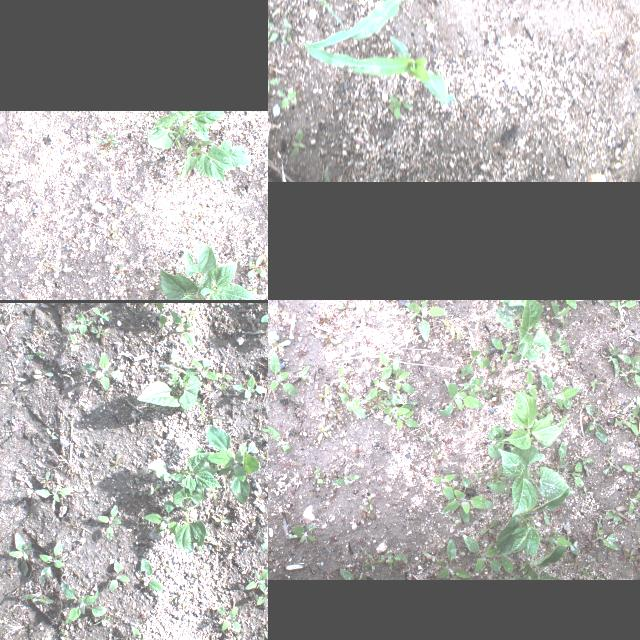crop: (306, 36, 456, 106), (144, 110, 253, 183), (486, 446, 576, 516), (158, 239, 261, 300), (303, 0, 437, 46), (488, 390, 570, 458), (496, 488, 568, 556), (137, 370, 225, 418), (148, 448, 222, 496), (497, 300, 552, 360), (172, 480, 206, 552), (520, 544, 566, 580)
weed: (204, 424, 260, 504), (441, 476, 494, 524), (605, 396, 640, 455), (60, 581, 108, 623), (436, 376, 484, 416), (81, 350, 122, 390), (407, 300, 447, 341), (383, 387, 422, 429), (536, 372, 580, 408), (435, 538, 471, 580), (380, 352, 416, 394), (463, 534, 502, 572), (142, 498, 178, 534), (268, 351, 297, 395), (38, 540, 68, 580), (460, 340, 492, 376), (364, 363, 394, 399), (8, 532, 32, 576), (612, 351, 640, 387), (583, 404, 609, 442), (136, 558, 162, 592), (489, 336, 523, 362), (97, 504, 121, 540), (170, 309, 193, 346), (268, 9, 292, 44), (544, 440, 570, 472), (593, 520, 619, 550), (499, 554, 528, 580), (160, 348, 188, 374), (338, 391, 366, 417), (438, 316, 462, 346), (600, 341, 620, 377), (186, 357, 218, 379), (286, 522, 318, 544), (233, 376, 267, 396), (65, 310, 93, 334), (245, 249, 268, 276), (245, 567, 268, 594), (108, 562, 130, 590), (434, 472, 456, 500), (35, 486, 73, 502), (550, 300, 570, 330), (268, 425, 291, 451), (218, 606, 240, 632), (574, 449, 594, 477), (389, 95, 411, 119), (550, 328, 572, 352), (565, 462, 585, 488), (563, 522, 579, 554), (372, 388, 394, 410), (619, 547, 640, 570), (323, 0, 343, 24), (546, 530, 572, 548), (331, 364, 349, 390), (150, 302, 167, 328), (604, 452, 622, 476), (598, 505, 622, 523), (331, 472, 361, 486), (524, 369, 538, 399), (24, 339, 46, 358), (422, 550, 448, 566), (268, 338, 291, 356), (622, 464, 640, 486), (290, 128, 304, 156), (610, 300, 636, 315), (95, 132, 119, 148), (22, 592, 54, 604), (362, 553, 386, 569), (489, 464, 508, 484), (278, 88, 296, 109), (627, 487, 640, 515), (92, 306, 112, 324), (386, 550, 410, 564), (339, 568, 366, 580), (479, 518, 497, 536), (258, 520, 268, 550), (255, 445, 268, 468), (619, 331, 640, 345), (256, 586, 268, 610), (294, 364, 312, 380), (320, 384, 332, 408), (317, 422, 333, 440), (328, 403, 344, 421), (337, 300, 356, 315), (555, 300, 590, 308), (583, 373, 603, 387), (268, 71, 281, 92), (108, 454, 124, 471), (359, 503, 376, 519), (15, 474, 33, 488), (215, 364, 233, 378), (362, 401, 380, 415), (320, 329, 338, 343), (558, 354, 574, 368), (92, 616, 114, 626), (90, 325, 108, 337), (362, 300, 379, 312), (115, 261, 125, 281), (34, 368, 54, 378), (123, 198, 137, 212), (130, 625, 144, 639), (184, 310, 198, 324), (568, 556, 582, 570), (295, 342, 309, 356), (146, 483, 162, 495), (314, 468, 326, 484), (41, 262, 60, 272), (259, 427, 268, 447), (492, 385, 502, 403), (40, 472, 51, 488), (70, 334, 80, 351), (247, 316, 259, 330), (109, 222, 119, 238), (101, 326, 109, 344), (192, 572, 204, 584), (172, 590, 182, 604), (206, 485, 216, 499), (363, 495, 373, 509), (213, 516, 230, 524), (61, 373, 74, 383), (47, 428, 59, 438), (610, 404, 622, 414), (206, 530, 214, 544), (160, 562, 170, 572), (254, 490, 262, 502), (98, 148, 106, 158), (379, 0, 392, 5), (264, 624, 268, 637), (610, 445, 616, 453), (187, 302, 196, 306), (200, 546, 207, 550)
